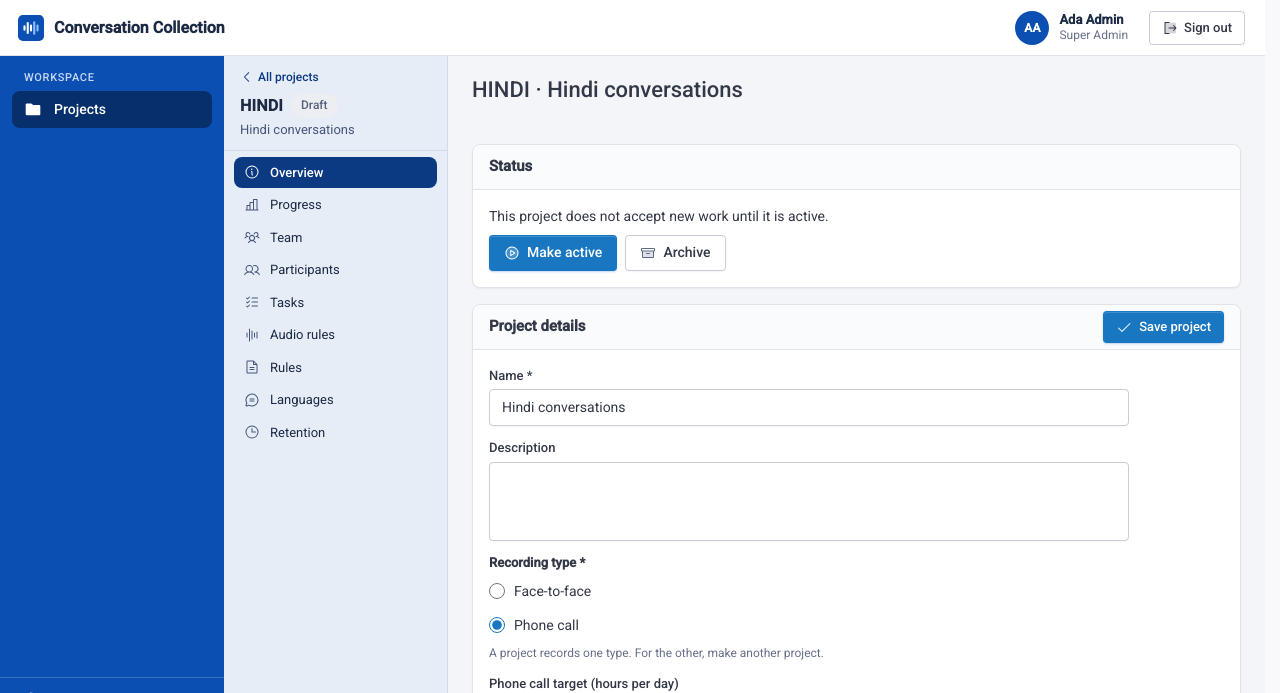
it: project detail › lets a project manager change status through the API
Expected: the heading "HINDI · Hindi conversations" is shown, [472,76,743,105]
Click the button "Make active": (553, 253) [489,235,617,271]
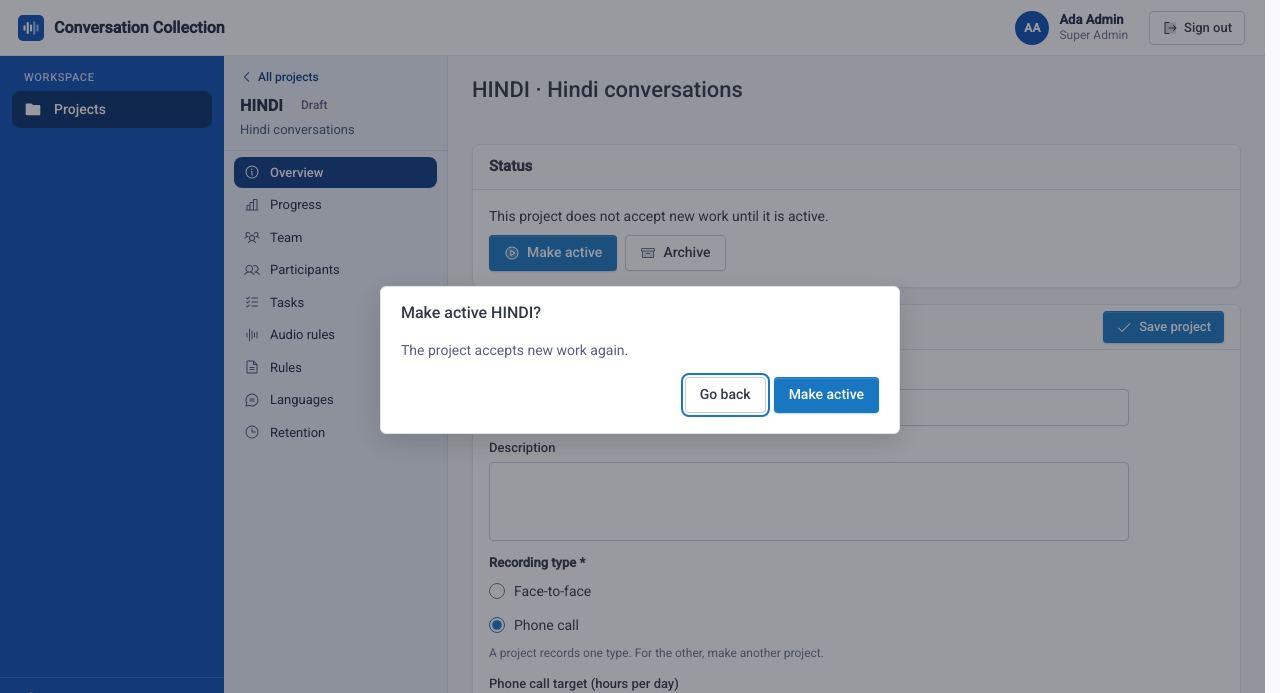
Click the button "Make active": (826, 395) [774,377,879,413]
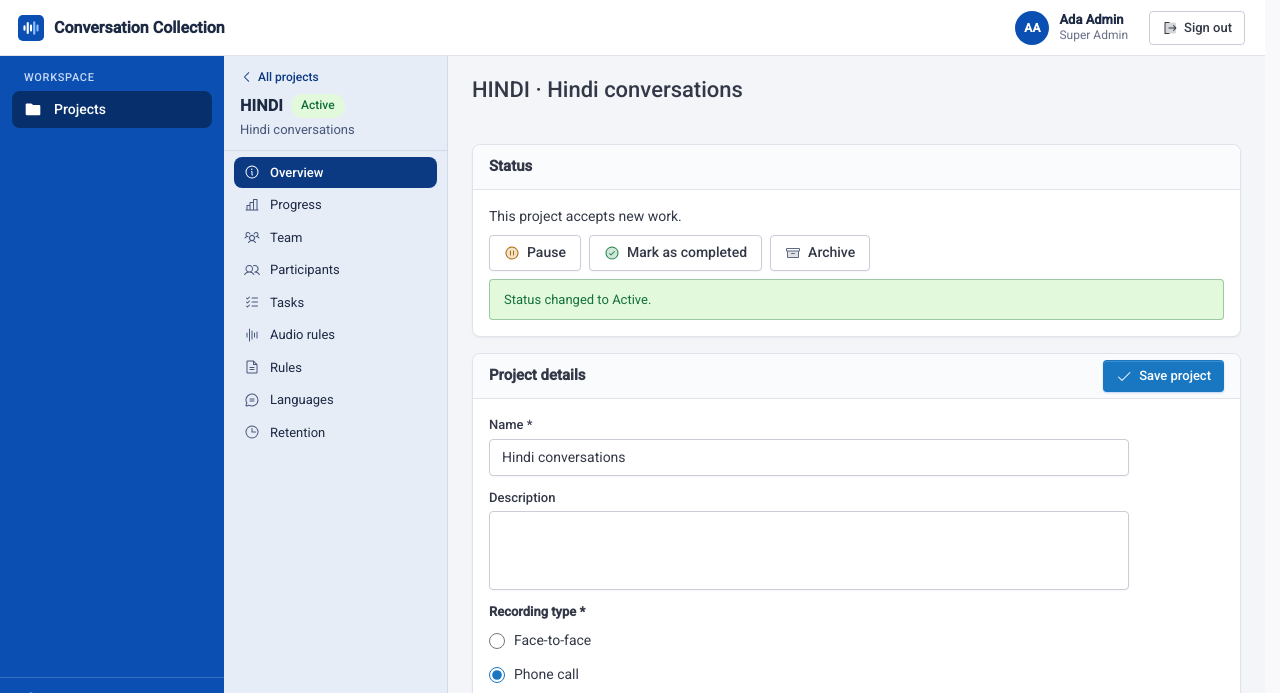
Result: the text "Status changed to Active." is shown at [489,279,1224,320]
Result: the text "This project accepts new work." is shown at [489,208,682,224]
